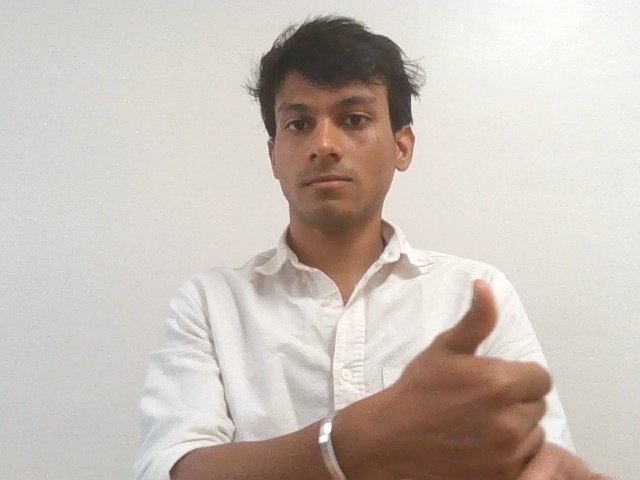Help: (371, 278, 622, 480)
